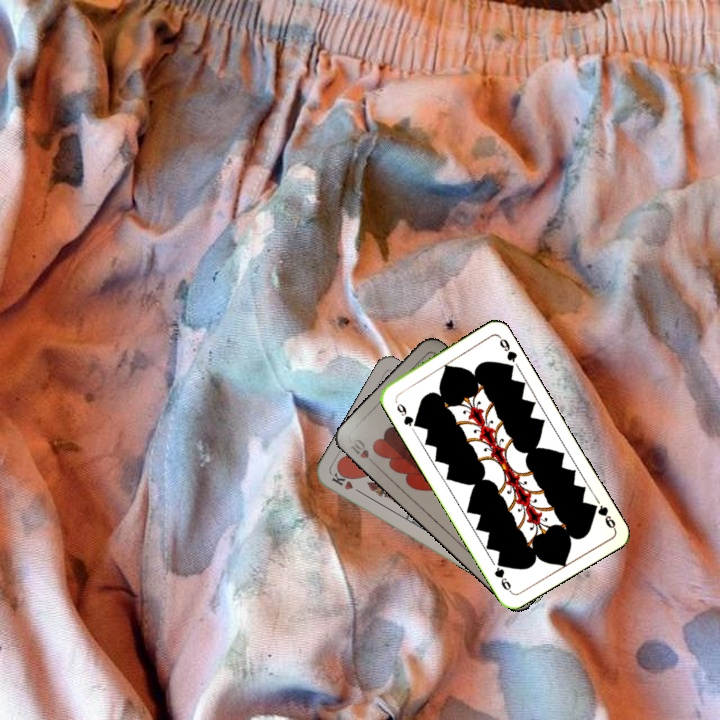G9: (390, 395, 421, 430), (586, 499, 618, 532)
H10: (346, 435, 379, 469)
HK: (328, 468, 365, 497)
